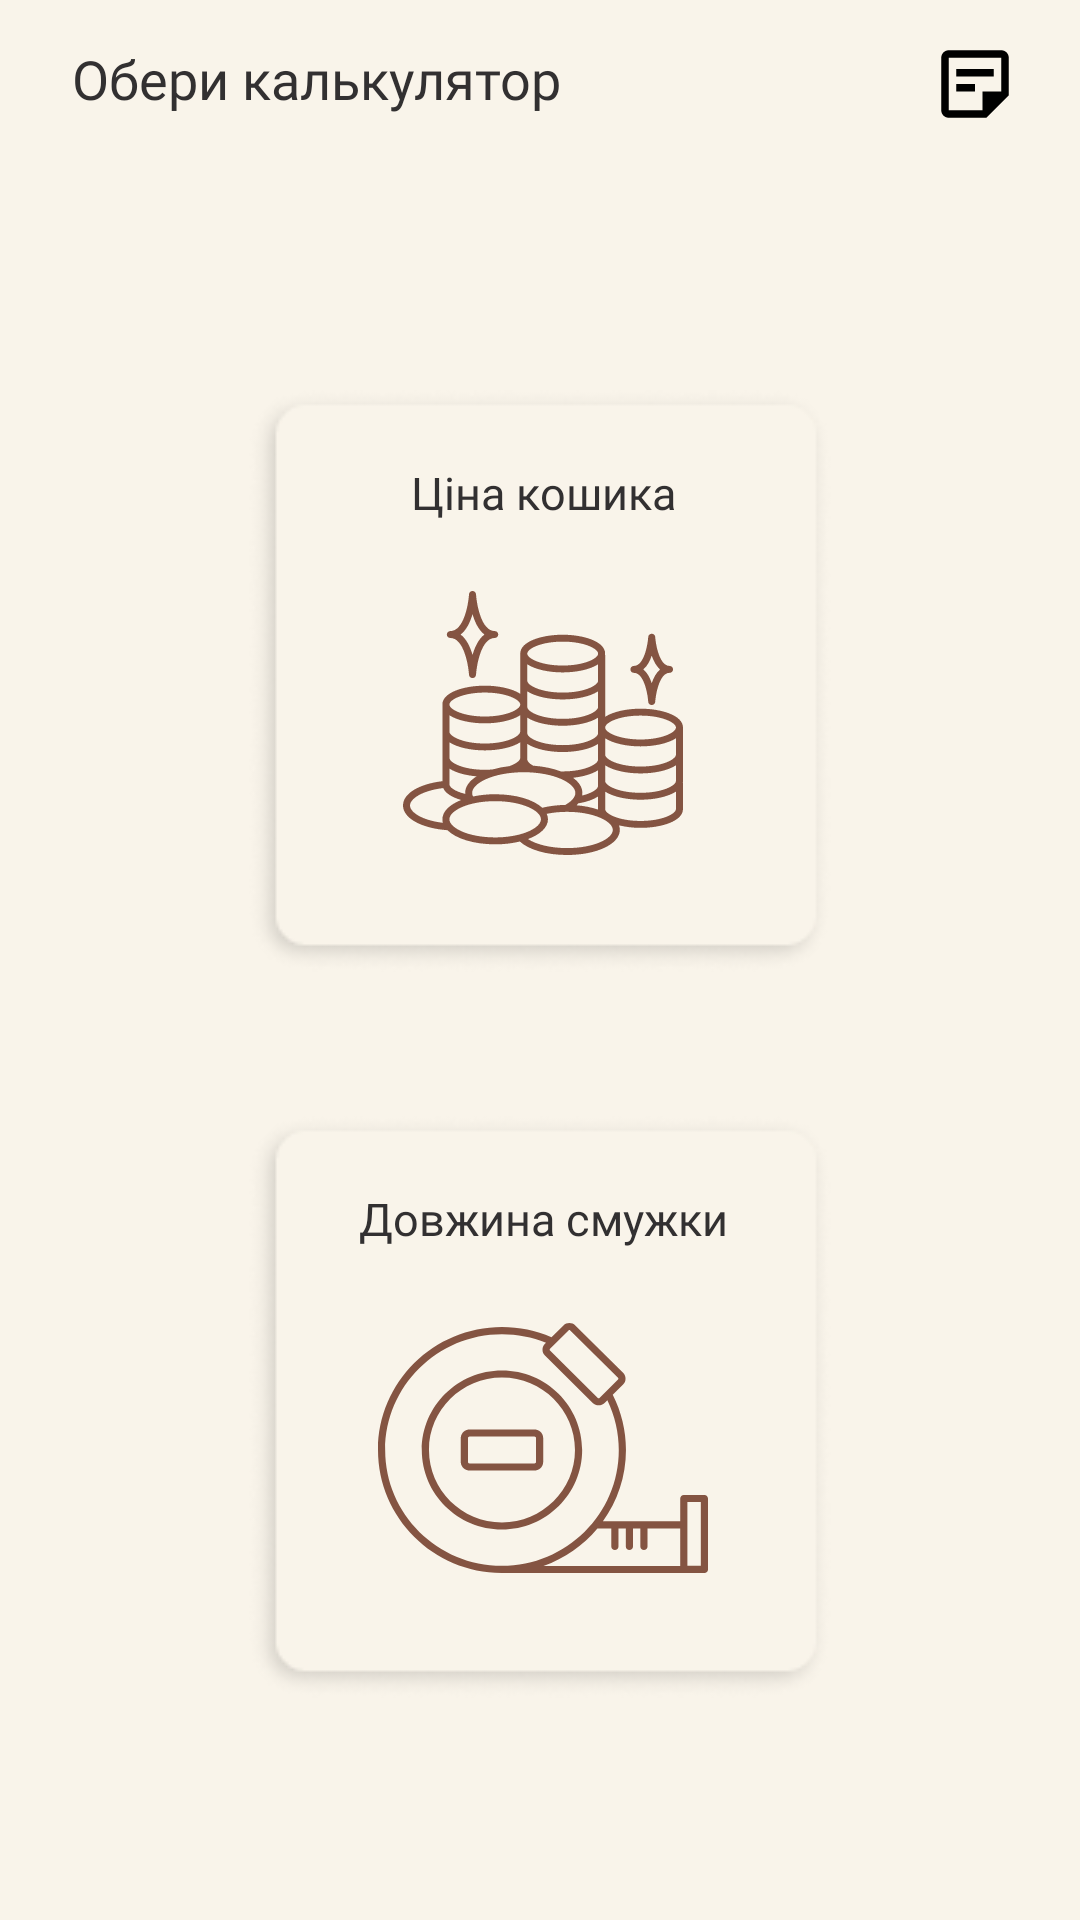

Where to tap for icons on this 1080px×1920px app screen, as point (x, y):
Кнопка вибору списку нотаток: point (975, 84)
